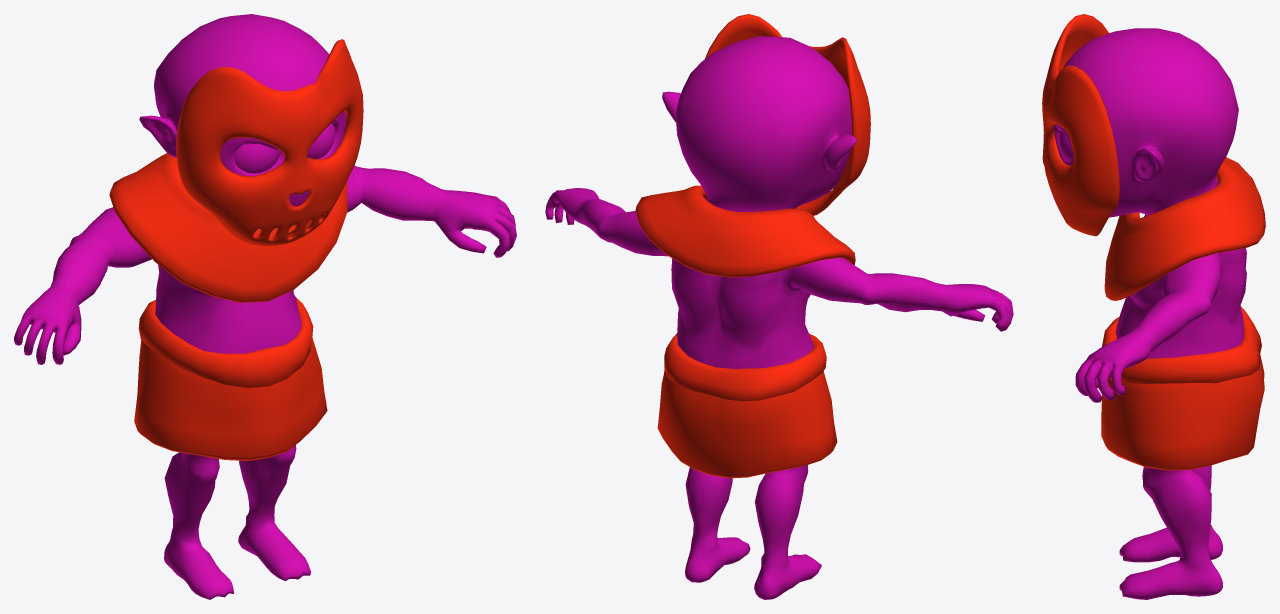
File: Esbirro_LP.fbx
3 views of the same model, side by side, from view 1: azimuth 30°, elevation 25°; view 2: azimuth 150°, elevation 25°; view 3: azimuth 270°, elevation 25° (orthographic). The views are drawn at different scales.
Parts seen in each view (by area): view 1: cloth_lp, enemy_lp, eyes_b; view 2: enemy_lp, cloth_lp; view 3: enemy_lp, cloth_lp.
Boxes of the visible parts, bbox=[...] form: cloth_lp: bbox=[109, 39, 363, 460]; enemy_lp: bbox=[14, 14, 516, 599]; eyes_b: bbox=[234, 123, 335, 173]; enemy_lp: bbox=[545, 36, 1013, 599]; cloth_lp: bbox=[635, 14, 870, 478]; enemy_lp: bbox=[1053, 28, 1246, 599]; cloth_lp: bbox=[1042, 14, 1265, 470].
Bounding box in the file's own units: 58.15 × 62.73 × 23.51.
